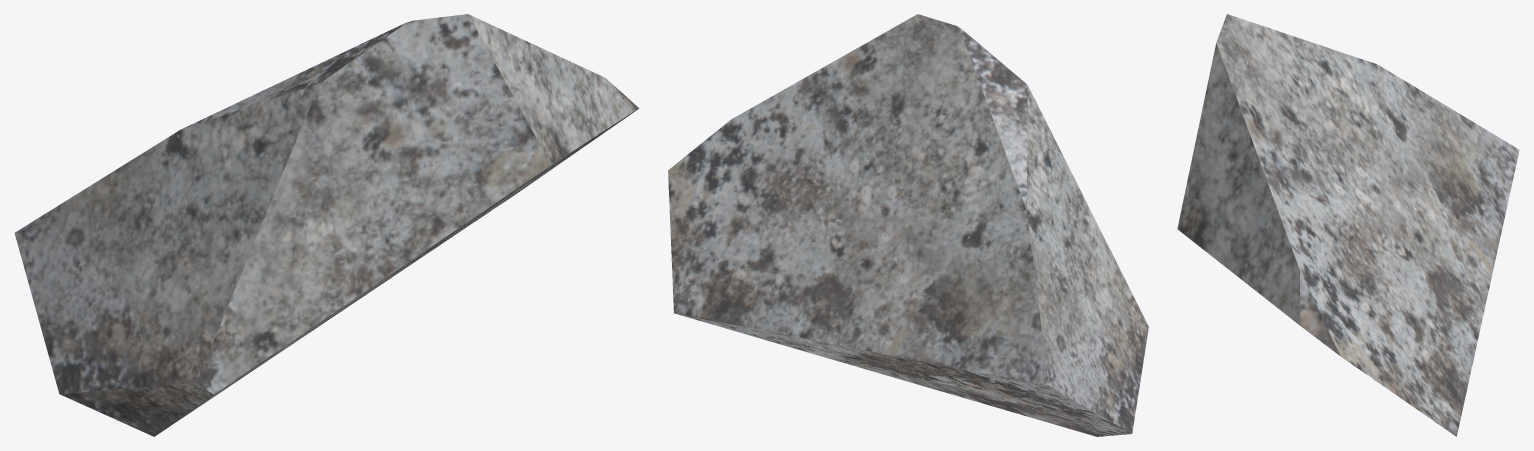
The model's file is Asteroid_Large_001_02_008_03_032.fbx.
3 views of the same model, side by side, from view 1: azimuth 30°, elevation 25°; view 2: azimuth 150°, elevation 25°; view 3: azimuth 270°, elevation 25° (orthographic). The views are drawn at different scales.
Visible parts, largest first — view 1: Asteroid_Large_001_02_008_03_032; view 2: Asteroid_Large_001_02_008_03_032; view 3: Asteroid_Large_001_02_008_03_032.
Boxes of the visible parts, x1=… form: Asteroid_Large_001_02_008_03_032: x1=14, y1=14, x2=639, y2=436; Asteroid_Large_001_02_008_03_032: x1=668, y1=14, x2=1148, y2=436; Asteroid_Large_001_02_008_03_032: x1=1177, y1=14, x2=1519, y2=436.
Bounding box in the file's own units: 13.49 × 9.12 × 7.
